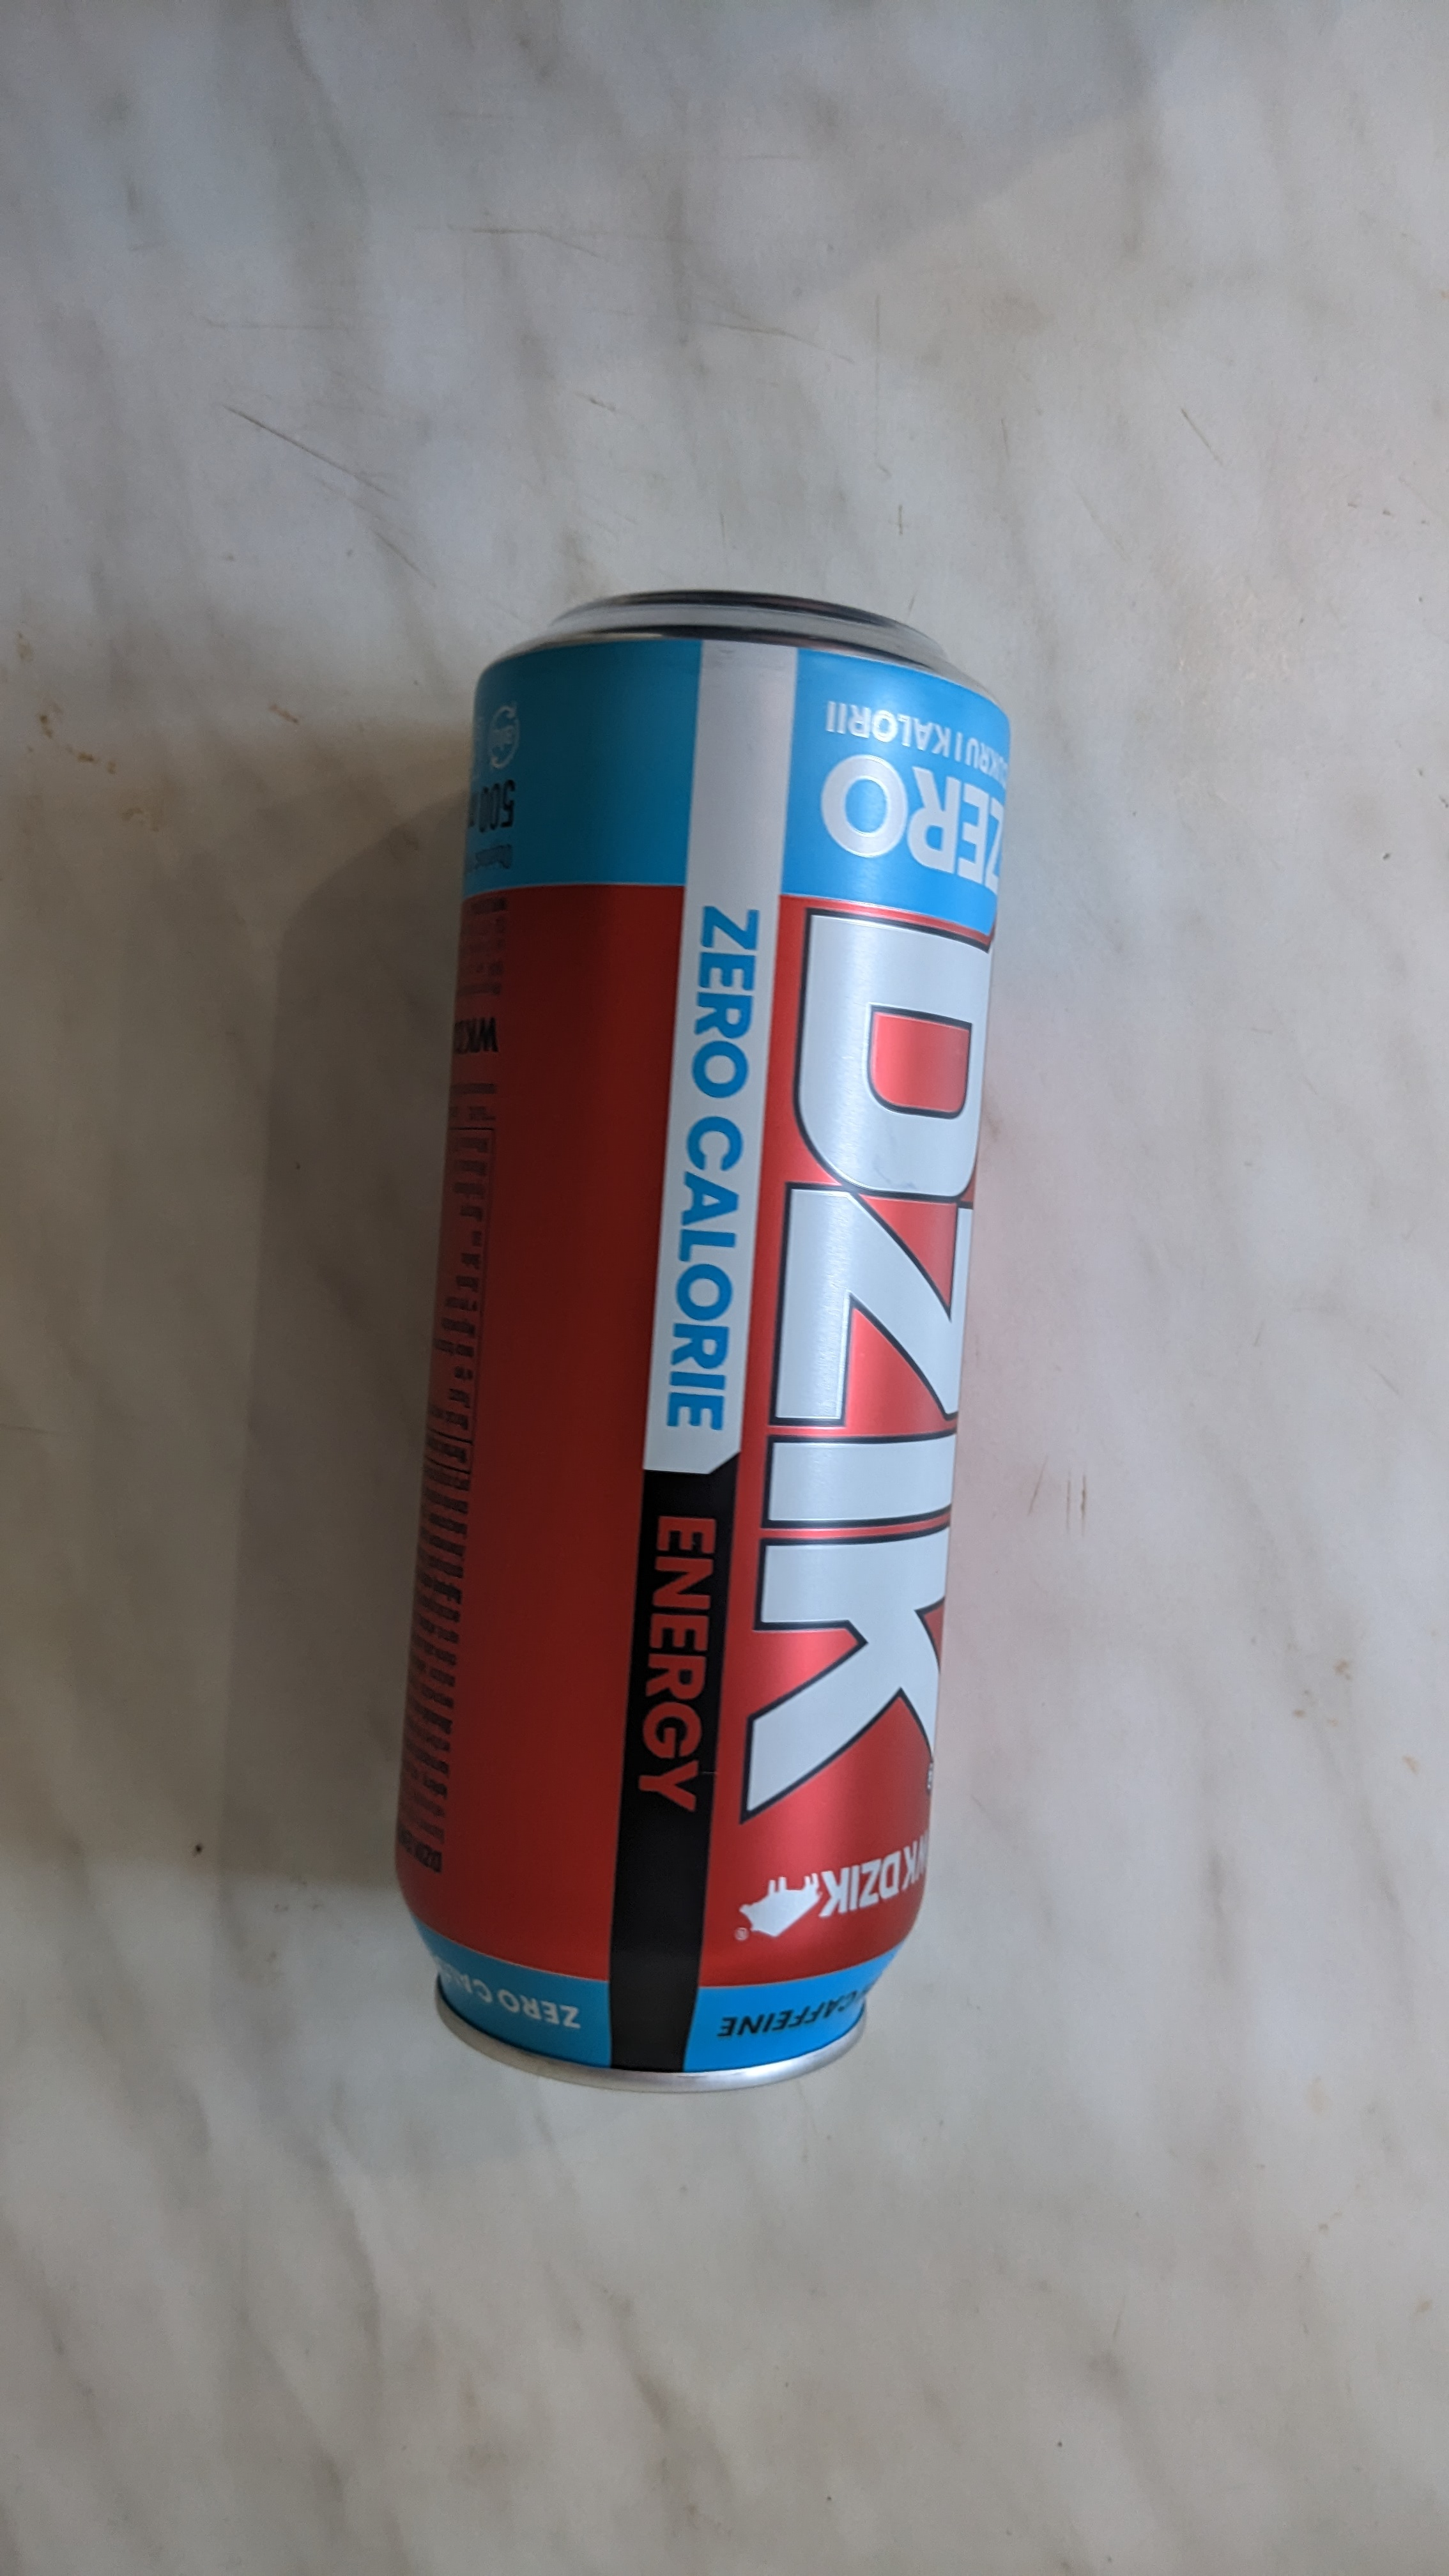dzik: (444, 566, 989, 2148)
